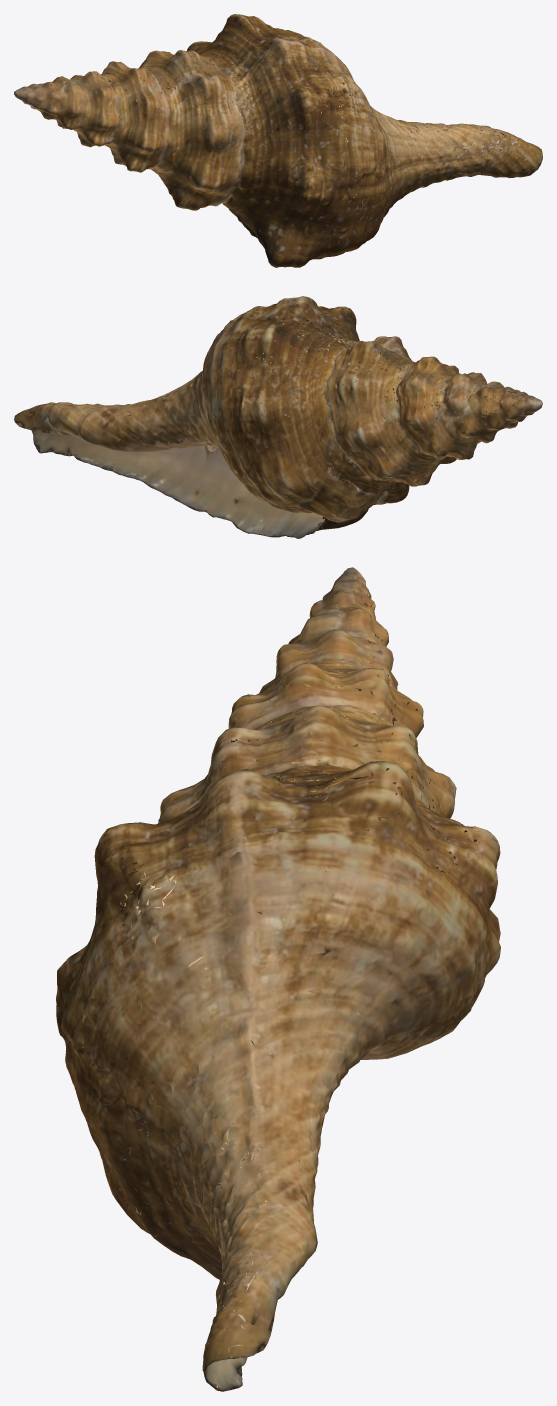
Rendered from conch.glb.
3 renders of one model, top to bottom at view 1: azimuth 30°, elevation 25°; view 2: azimuth 150°, elevation 25°; view 3: azimuth 270°, elevation 25°, orthographic. The views are drawn at different scales.
Visible parts, largest first — view 1: Object_2; view 2: Object_2; view 3: Object_2.
Boxes of the visible parts, x1=… form: Object_2: x1=14, y1=14, x2=542, y2=267; Object_2: x1=14, y1=296, x2=542, y2=538; Object_2: x1=56, y1=567, x2=500, y2=1391.
Bounding box in the file's own units: 133 × 58.17 × 51.99.
Materials: 1 (1 with a texture image).
